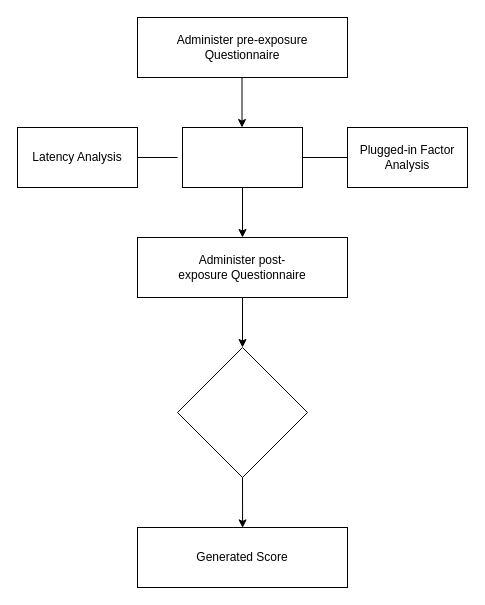
This 485x605 diagram has some shape labels left out. The centre of each missing label's shape, as x and y in pixels:
"Cybersickness Susceptibility Algorithm" belongs at (242,412).
"Sentiment Analysis" belongs at (242,157).
